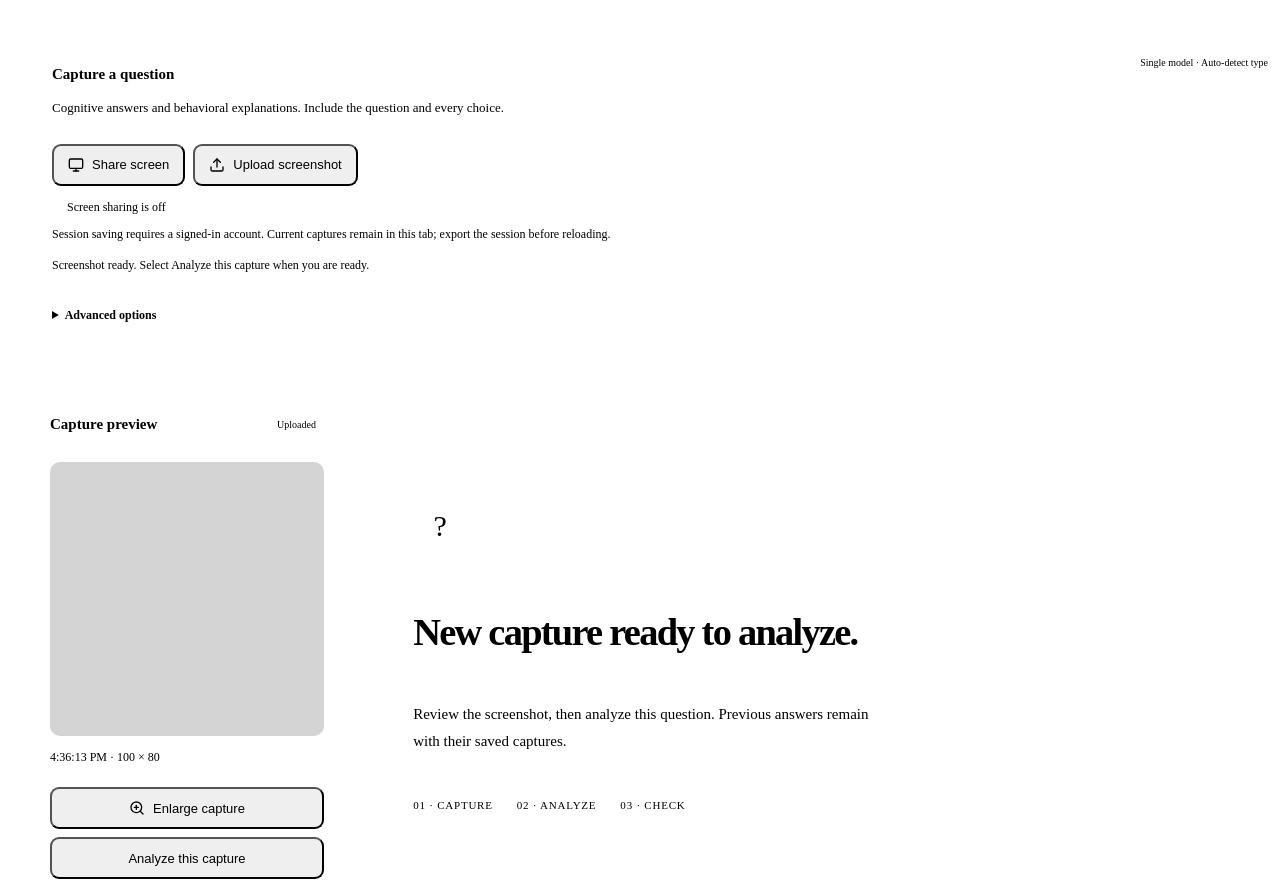
aptitude workspace › analyzes an uploaded screenshot without starting screen or microphone capture
Earlier steps of the test are not shown.
Later steps or results of the test are not shown.
Check: the heading "New capture ready to analyze." is shown, box [413,608,858,655]
Click the button "Analyze this capture" at (187, 858), box [50,837,324,879]
(page scrolled)
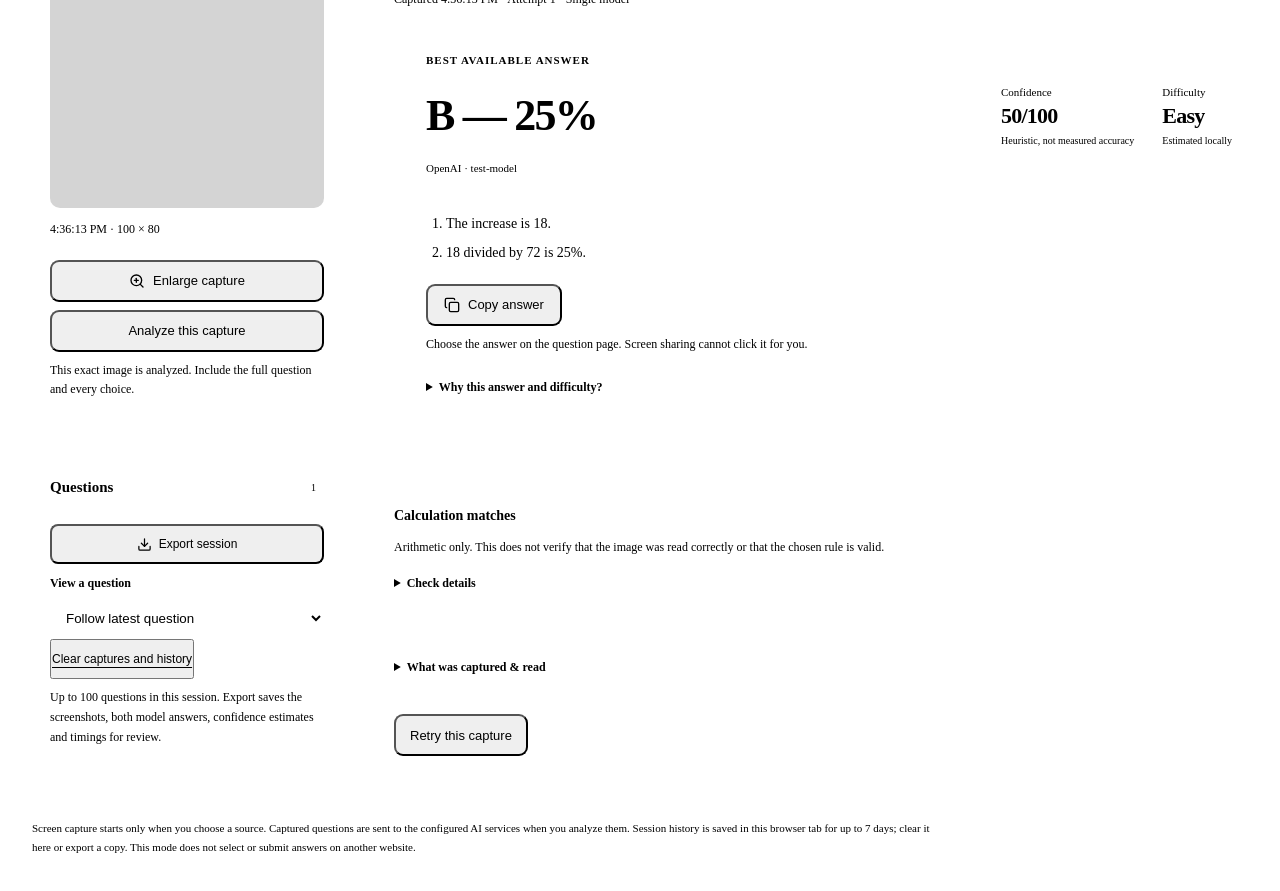
Check: the heading "B — 25%" is shown, box [426,91,597,140]
Check: the element named "Worked explanation" shows "18 divided by 72", box [446,245,586,260]
Check: the heading "Calculation matches" is shown, box [394,508,516,523]
